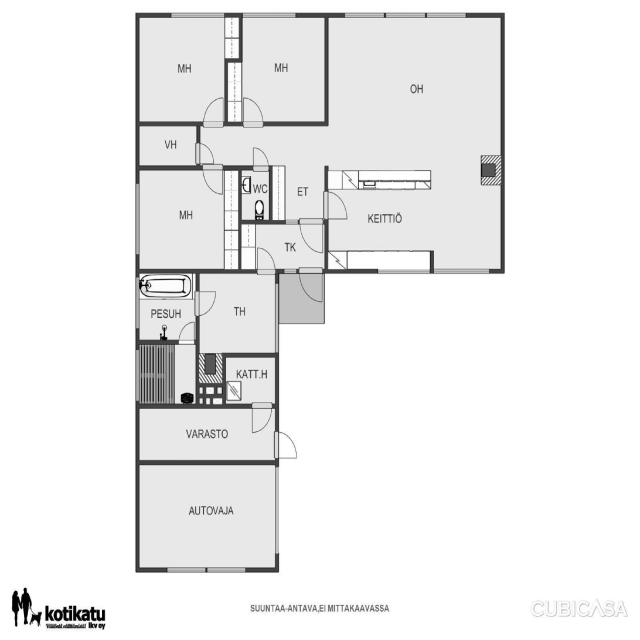door: (298, 217, 325, 254), (298, 267, 325, 303), (249, 402, 274, 435), (323, 190, 350, 220), (241, 94, 264, 128), (275, 430, 300, 461), (194, 288, 219, 318), (203, 95, 226, 127), (203, 165, 224, 196), (256, 246, 276, 274), (177, 318, 197, 344), (250, 146, 270, 170), (196, 142, 215, 165)
window: (164, 562, 248, 580), (340, 9, 434, 23), (426, 263, 493, 277), (272, 464, 282, 557), (376, 265, 436, 277), (133, 181, 142, 259), (170, 9, 226, 21), (241, 10, 297, 22), (132, 347, 142, 402), (274, 282, 280, 348), (134, 285, 142, 330), (282, 267, 297, 275)
zone: (324, 13, 504, 274), (138, 462, 278, 573), (134, 166, 242, 272), (228, 14, 331, 125), (138, 15, 238, 123), (327, 178, 435, 270), (138, 406, 278, 466), (197, 274, 276, 354), (137, 270, 198, 344), (137, 340, 198, 405), (138, 120, 200, 168), (225, 354, 278, 405), (195, 352, 227, 404), (241, 168, 269, 220)
